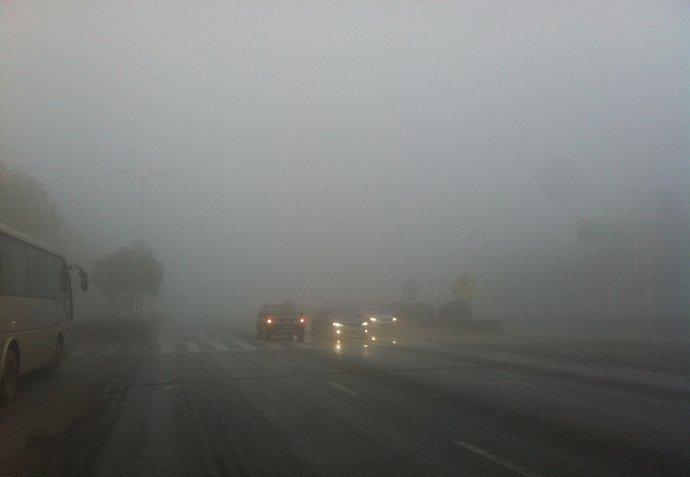bus: (1, 222, 93, 398)
car: (308, 304, 367, 339), (255, 300, 304, 340), (356, 303, 397, 330)
